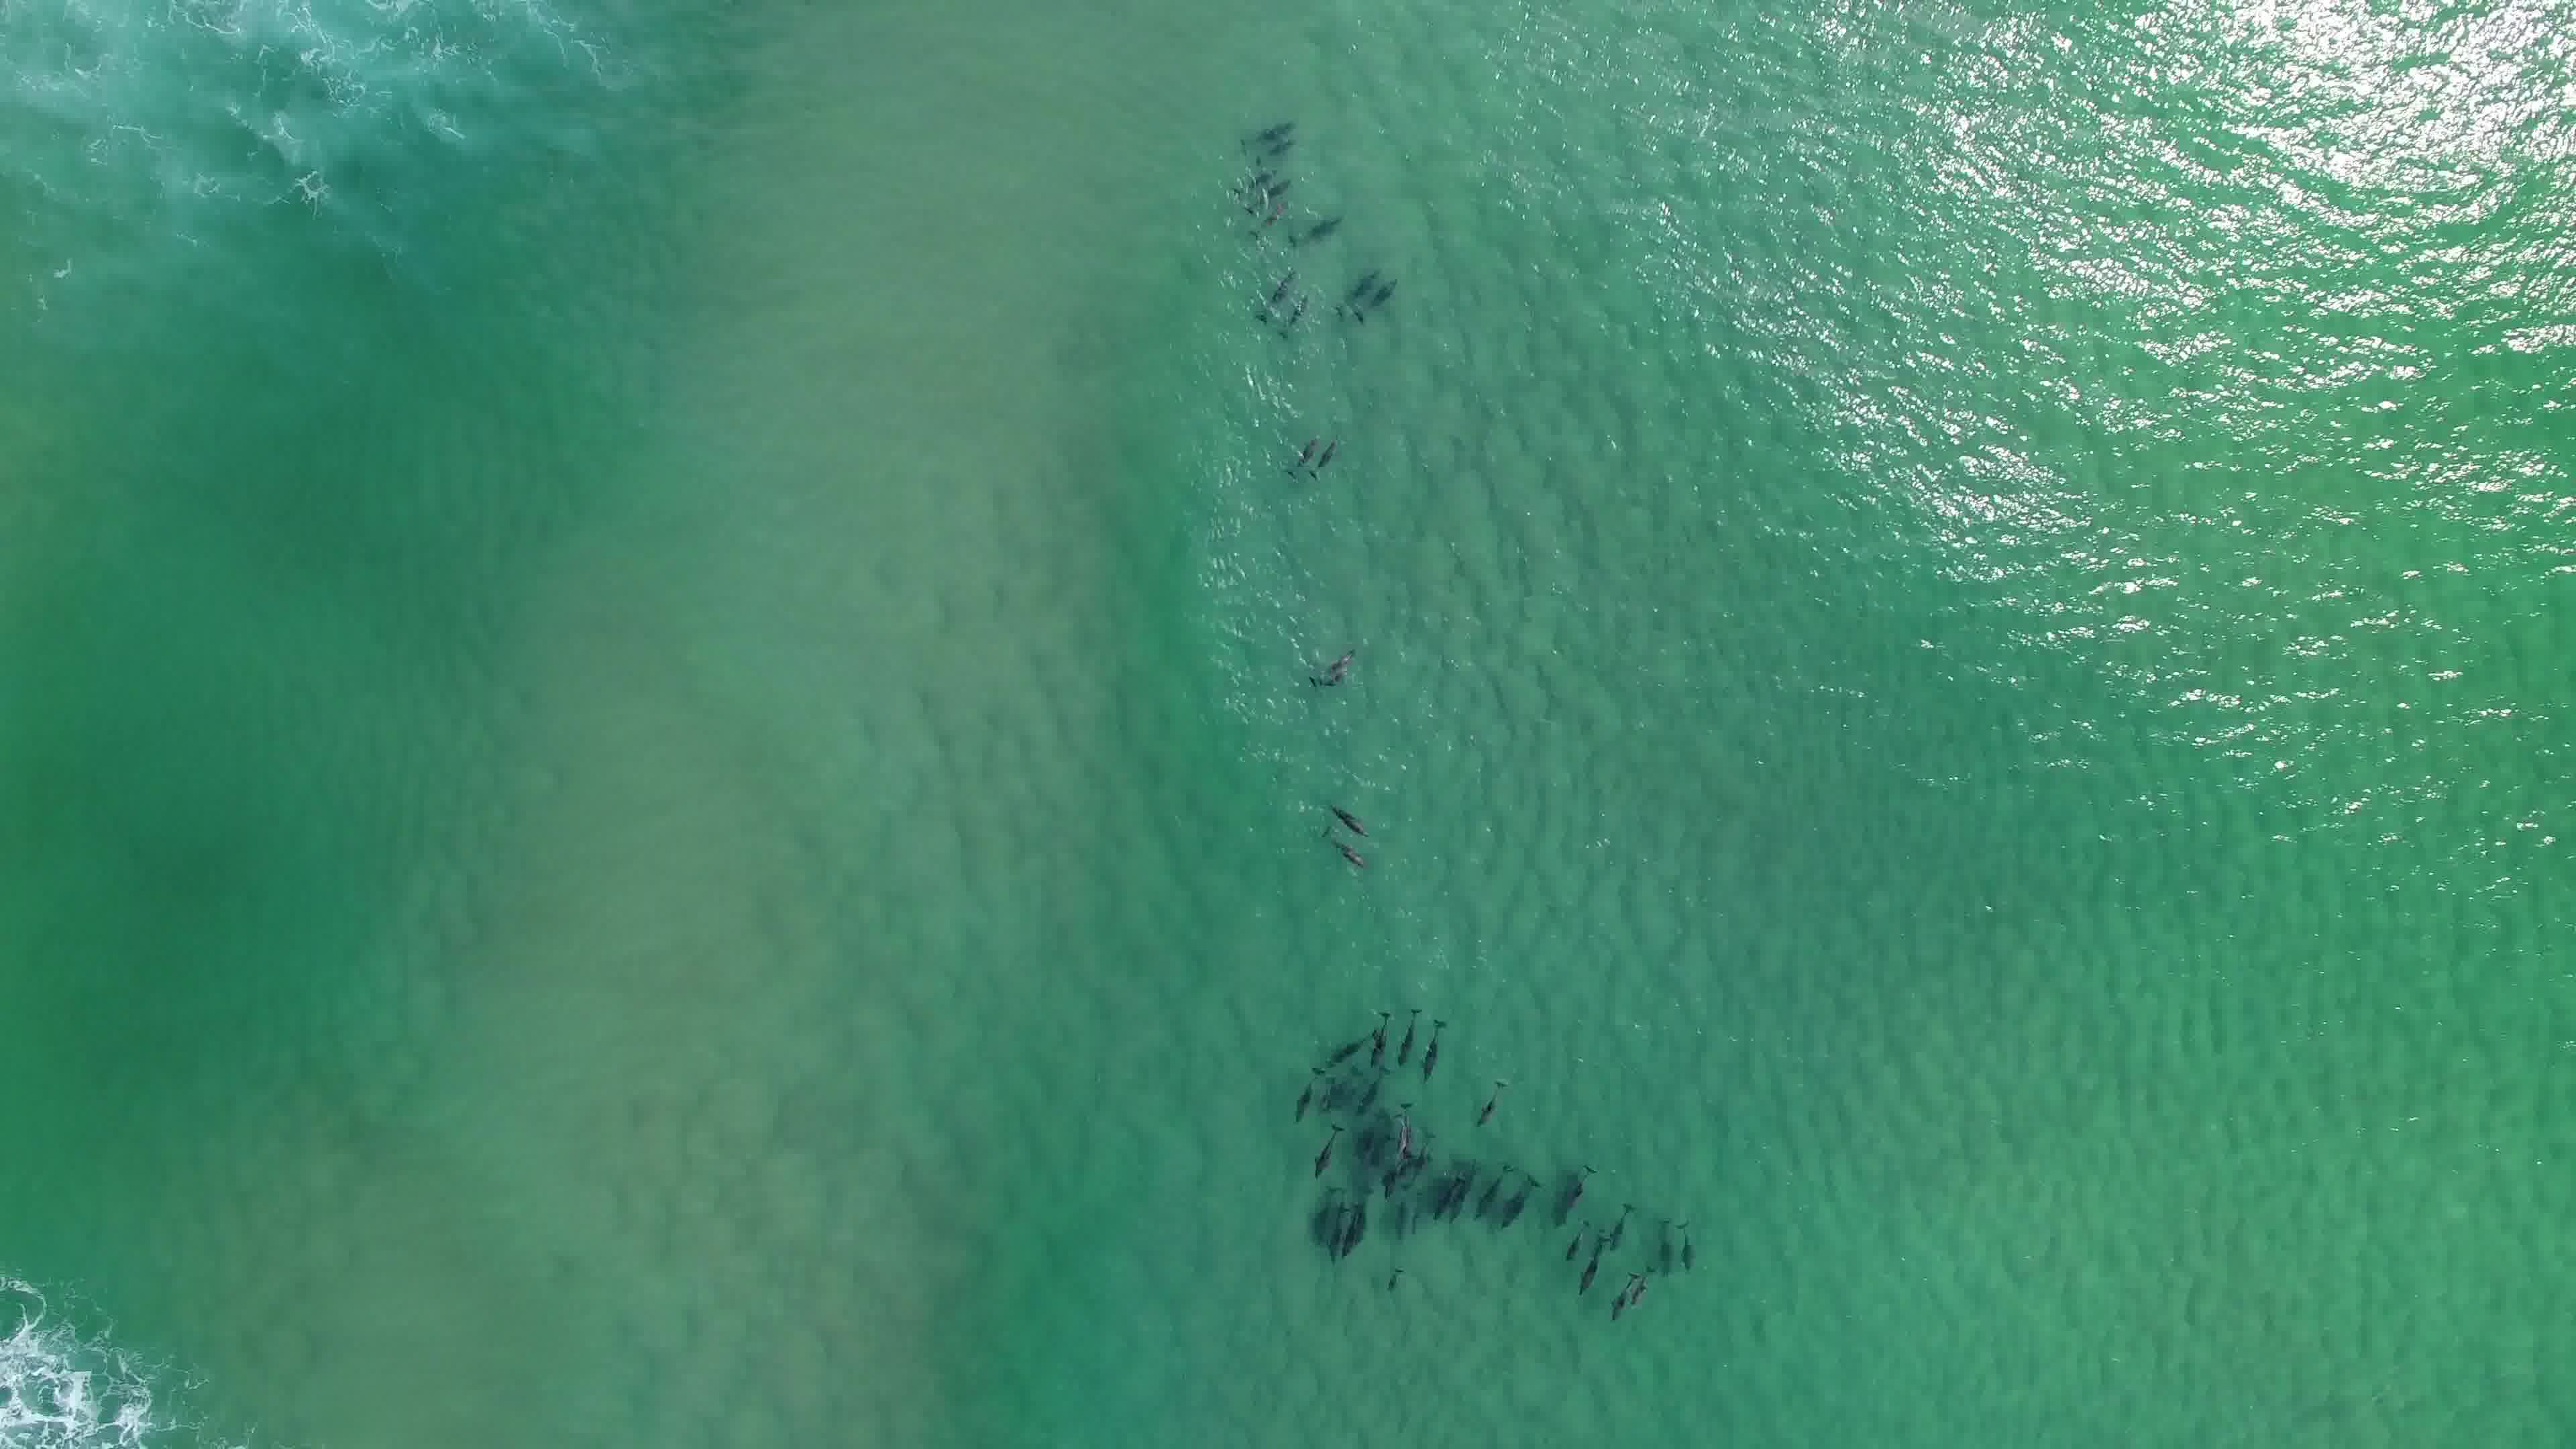dolphin: (1316, 824, 1376, 878), (1247, 255, 1297, 317), (1500, 1157, 1536, 1244), (1380, 1102, 1421, 1175), (1477, 1152, 1516, 1223), (1649, 1208, 1688, 1276), (1233, 106, 1297, 147), (1357, 278, 1408, 326), (1419, 1005, 1451, 1081), (1334, 253, 1376, 310), (1327, 796, 1376, 844), (1474, 1067, 1513, 1125), (1362, 1001, 1396, 1069), (1391, 994, 1417, 1076), (1454, 1150, 1483, 1226), (1240, 173, 1304, 207), (1292, 203, 1346, 242), (1311, 1123, 1348, 1180), (1311, 637, 1362, 678), (1352, 1065, 1391, 1118), (1433, 1155, 1463, 1221), (1316, 1030, 1375, 1063), (1327, 1189, 1353, 1260), (1670, 1212, 1700, 1270), (1557, 1155, 1592, 1205), (1284, 419, 1318, 469), (1566, 1215, 1598, 1267), (1582, 1230, 1606, 1295), (1306, 658, 1348, 695), (1608, 1260, 1633, 1323), (1313, 435, 1345, 483), (1272, 288, 1307, 329), (1629, 1260, 1660, 1307), (1297, 1067, 1318, 1131), (1606, 1200, 1633, 1247), (1378, 1261, 1410, 1300), (1235, 159, 1277, 184), (1258, 136, 1302, 157)
